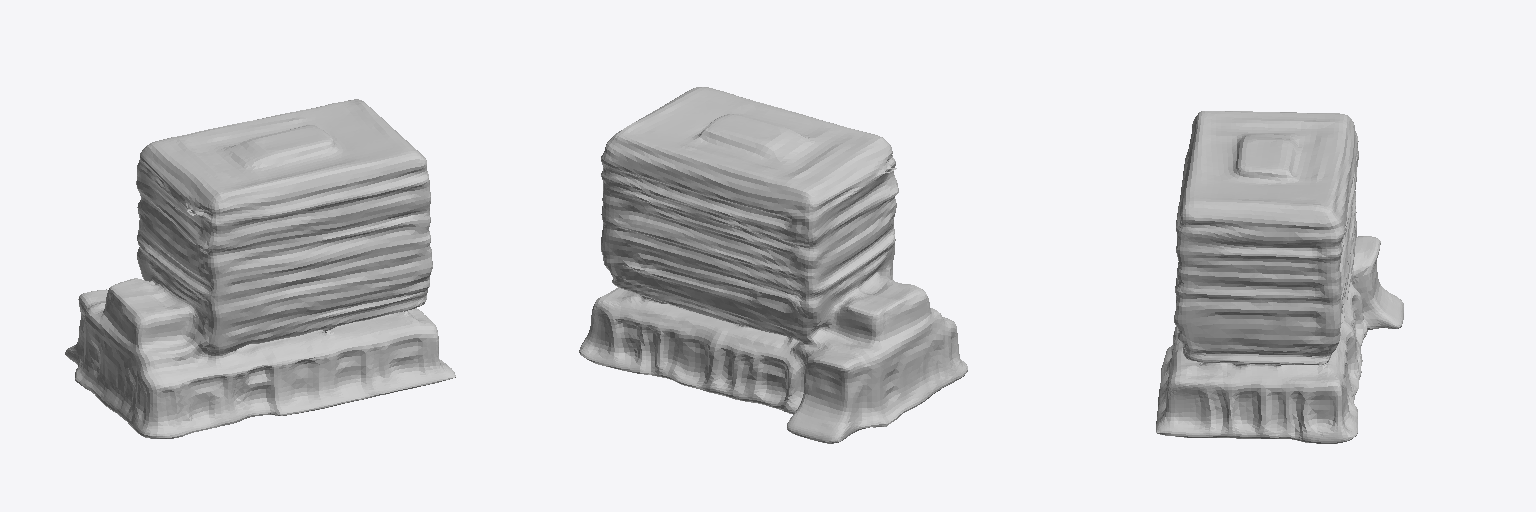
Rendered from 59ea2a7b108f_sci_fi_residential_.obj.
3 views of the same model, side by side, from view 1: azimuth 30°, elevation 25°; view 2: azimuth 150°, elevation 25°; view 3: azimuth 270°, elevation 25° (orthographic).
Parts seen in each view (by area): view 1: mesh; view 2: mesh; view 3: mesh.
Boxes of the visible parts, box(x1,y1,x2,y2) form: mesh: box(65, 99, 455, 438); mesh: box(579, 87, 967, 443); mesh: box(1156, 111, 1403, 443).
Bounding box in the file's own units: 0.9941 × 0.7058 × 0.6851.